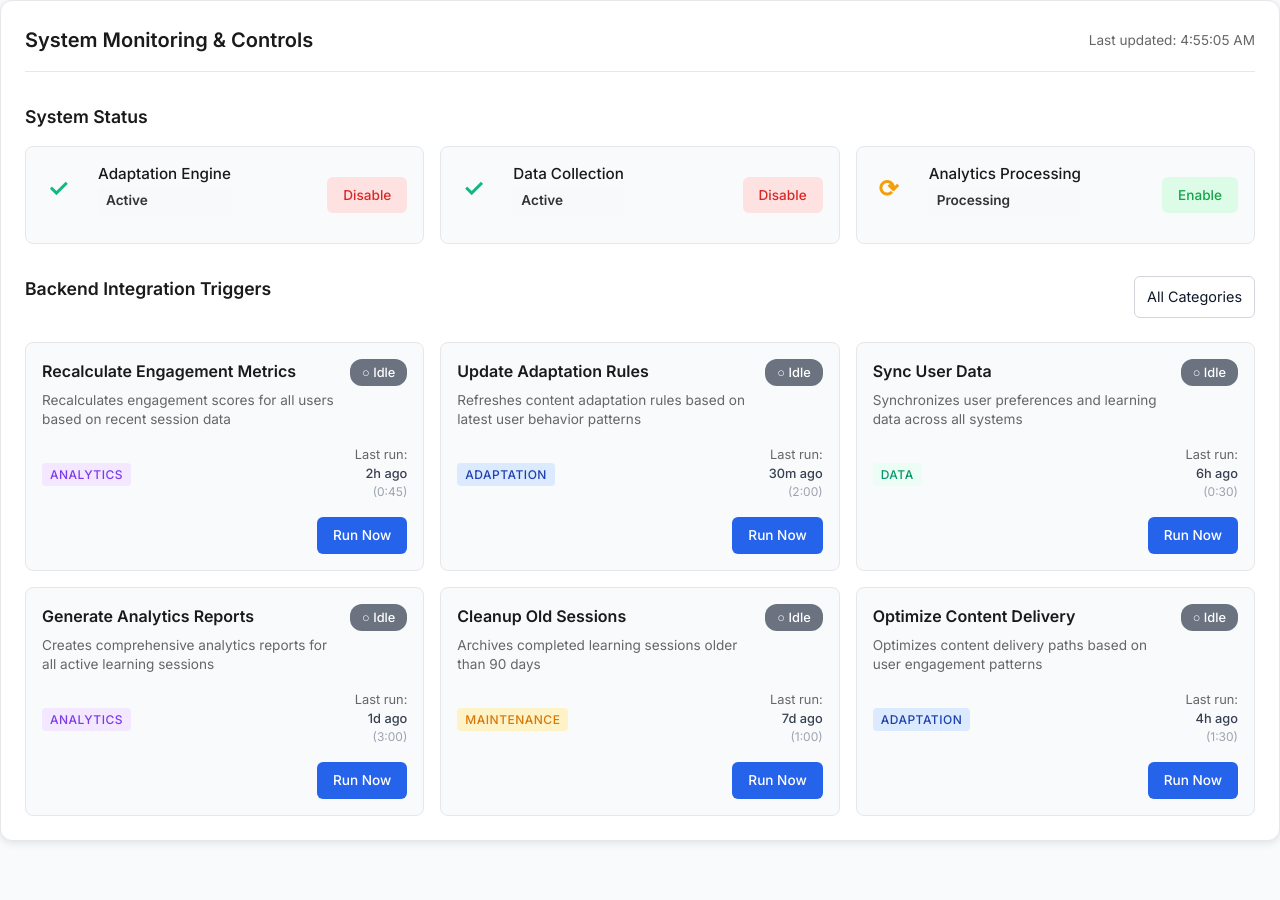
SystemControls › toggles system components
The width and height of the screenshot is (1280, 900).
Click the button "Disable" next to "Adaptation Engine". click: (367, 195)
box: top-left (327, 177), bottom-right (407, 213)
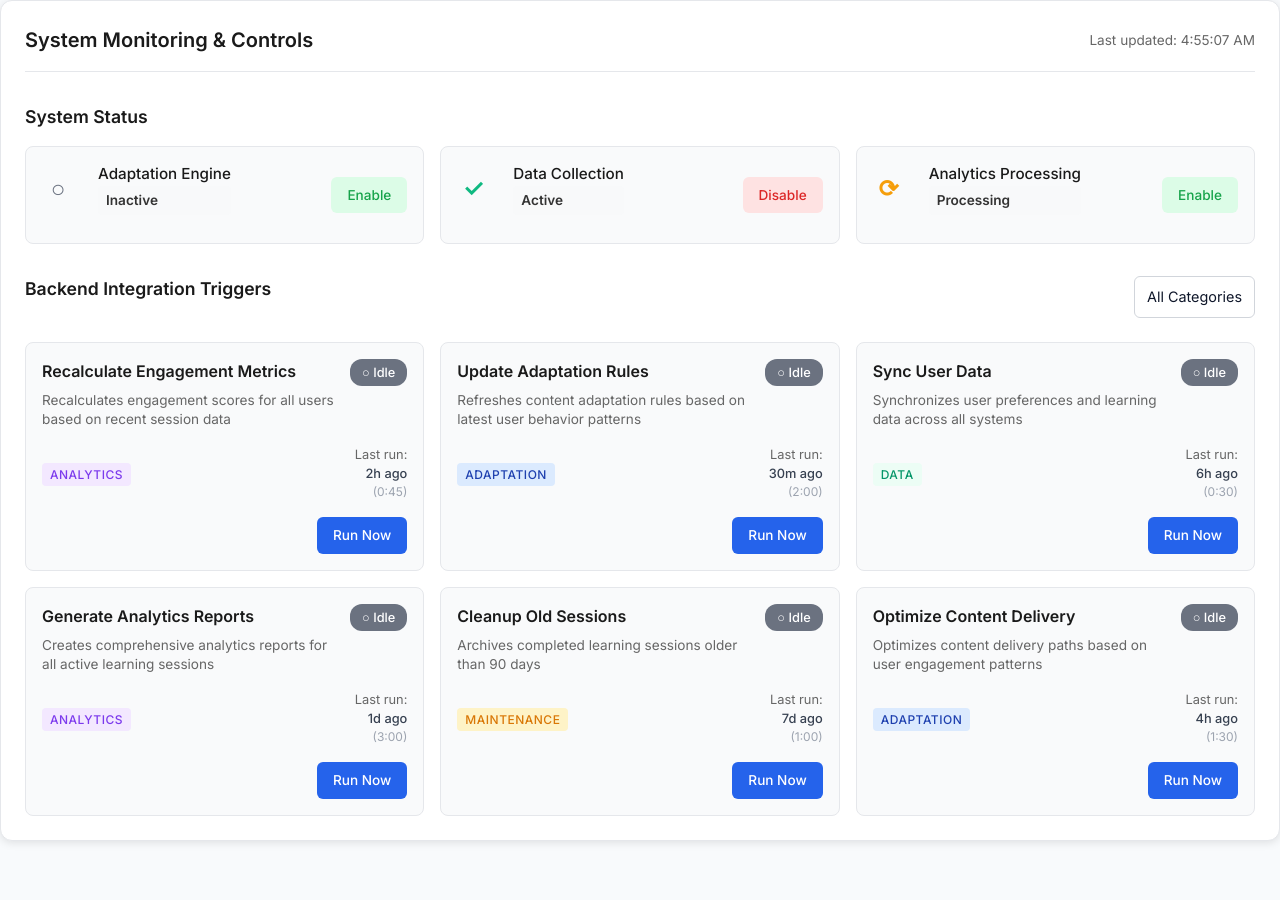
Check: the text "Disable" is gone
